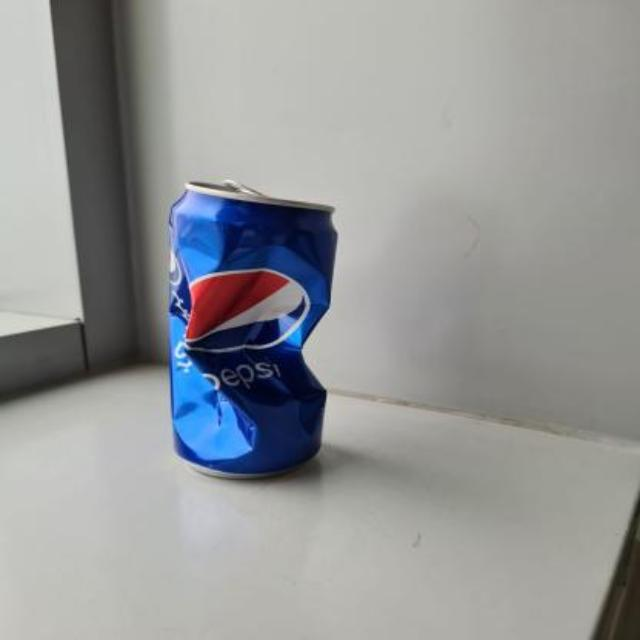metal: (168, 182, 334, 474)
